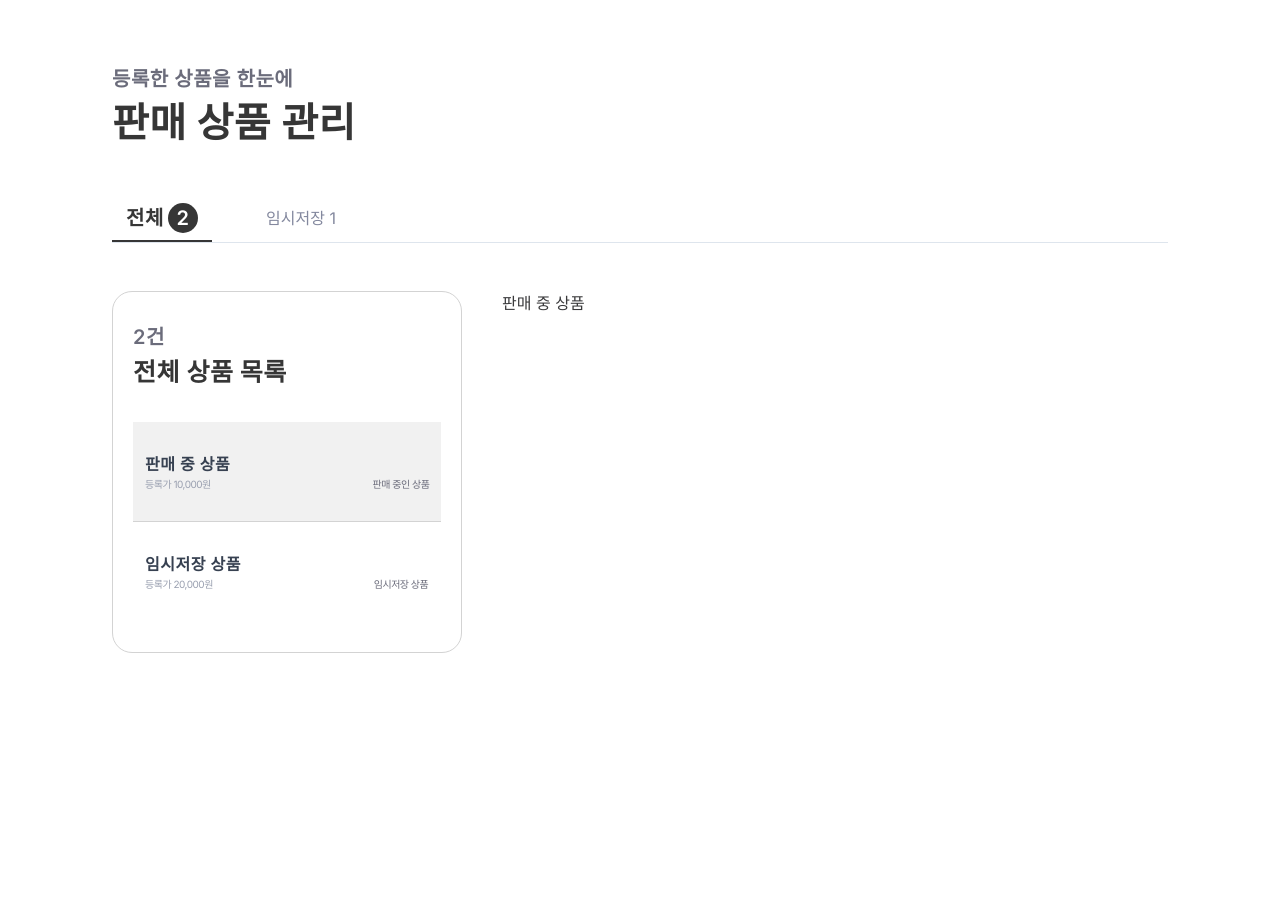
Test: ProductListShell › 탭을 변경하면 선택 상품 query를 제거한다
This screenshot has width=1280, height=900.
Expected: the text "판매 중 상품" below "전체 상품 목록" is shown, x1=145 y1=454 x2=230 y2=474
Click the tab "임시저장 1" at coordinates (301, 219), box x1=251 y1=196 x2=351 y2=242
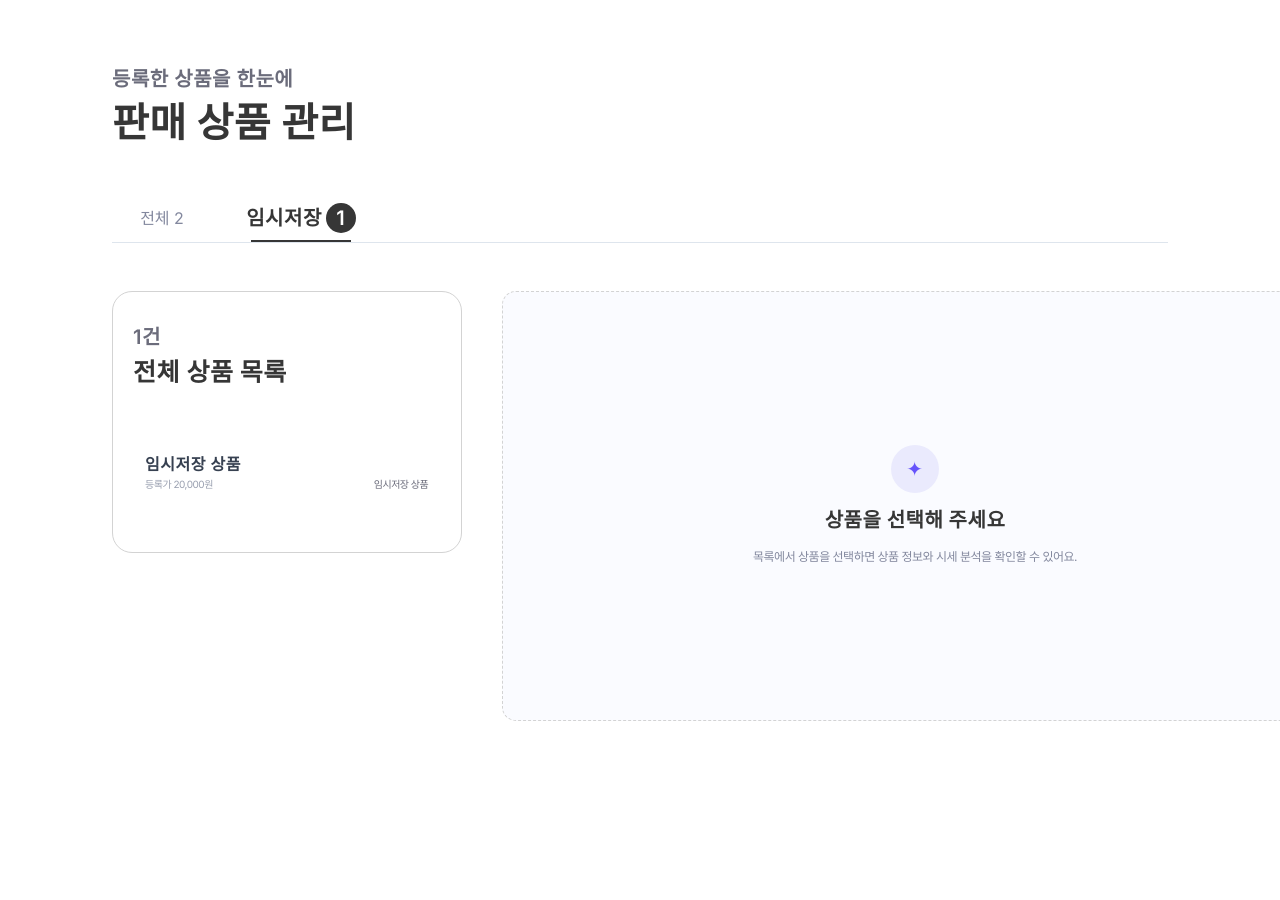
Result: the heading "상품을 선택해 주세요" is shown at x1=825 y1=505 x2=1005 y2=535
